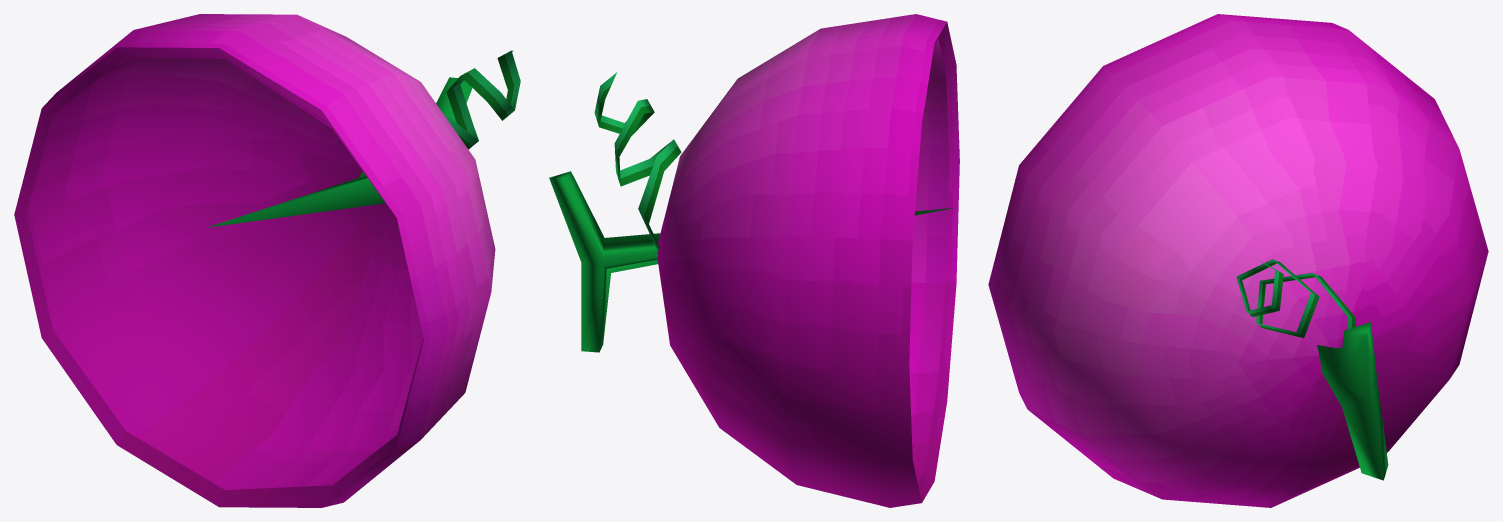
Rendered from cap_fruit_grape.dae.
3 renders of one model, left to right at view 1: azimuth 30°, elevation 25°; view 2: azimuth 150°, elevation 25°; view 3: azimuth 270°, elevation 25°, orthographic. The views are drawn at different scales.
Parts seen in each view (by area): view 1: cap_fruit_grape; view 2: cap_fruit_grape; view 3: cap_fruit_grape.
Part boxes in pixels (left/top/right/bottom): cap_fruit_grape: left=14, top=14, right=520, bottom=507; cap_fruit_grape: left=549, top=14, right=959, bottom=507; cap_fruit_grape: left=988, top=14, right=1488, bottom=507.
Size of the model in its own units: 21.45 by 23.1 by 22.43.
1 material, 1 textured.
